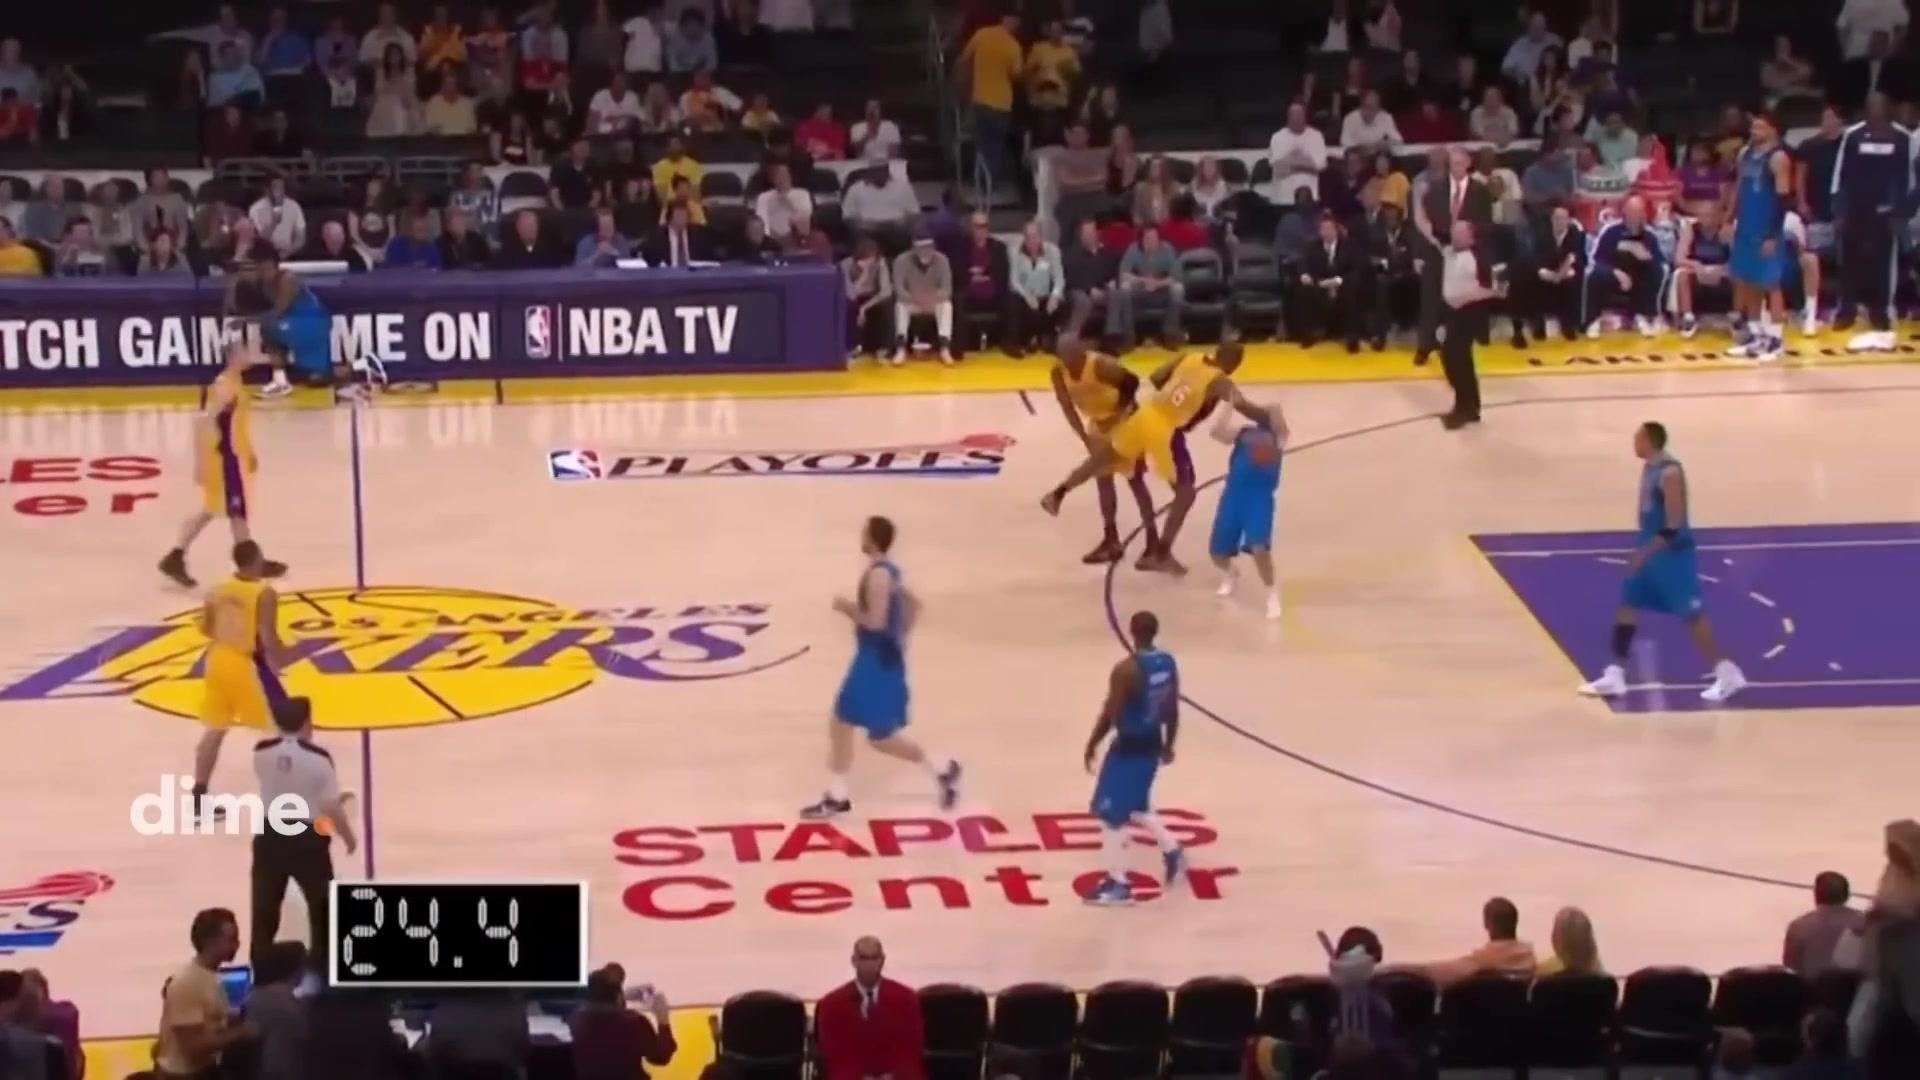foul: (1116, 332, 1327, 588)
